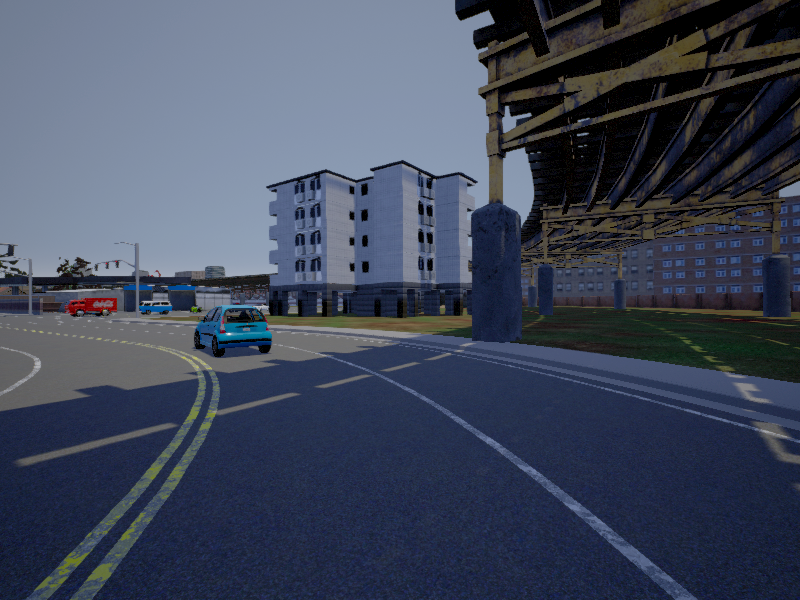Benign: (195, 305, 276, 359), (67, 299, 117, 317), (139, 302, 172, 316)
